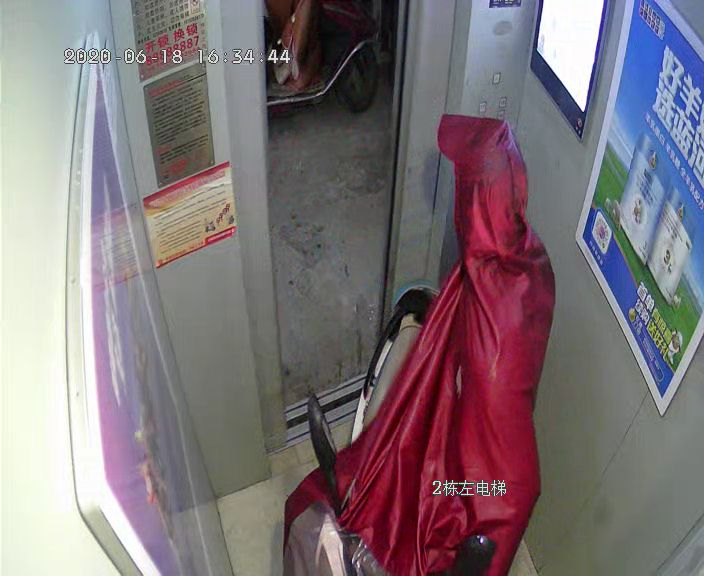Electric-bicycle: (302, 284, 490, 576)
